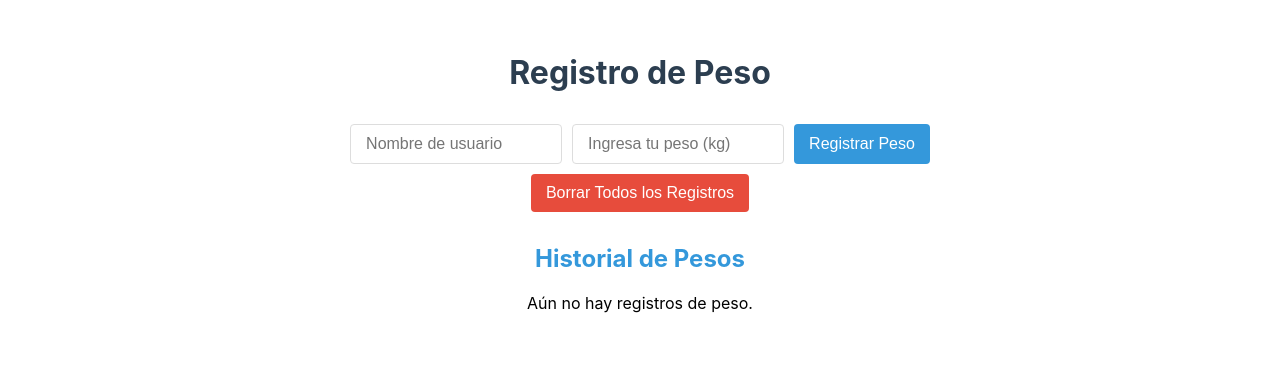
it: Pruebas E2E de la Aplicación de Seguimiento de Peso › debería borrar todos los pesos cuando se hace clic en "Borrar Todos los Registros"
This screenshot has width=1280, height=378.
Note: Registrar un peso
Type "Usuario Prueba" into the field with placeholder "Nombre de usuario" at (456, 144), box [350, 124, 562, 164]
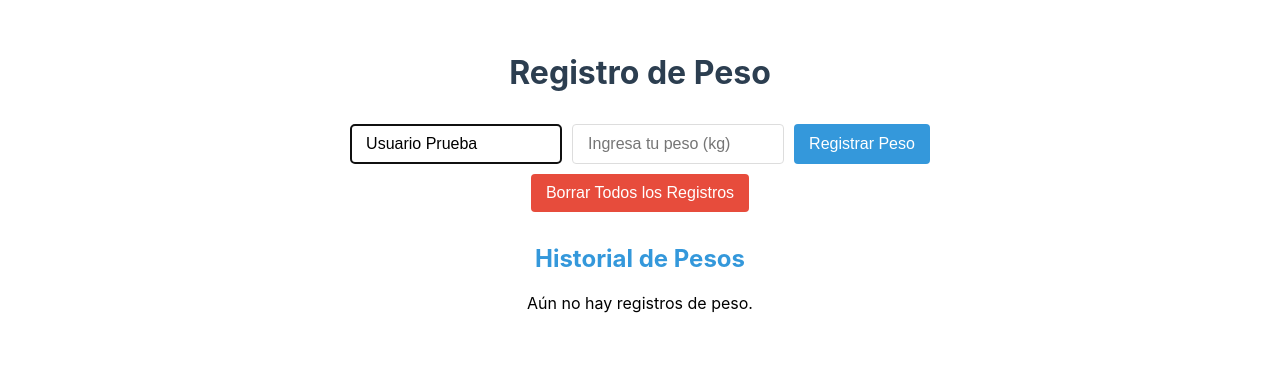
Type "65" into the number field with placeholder "Ingresa tu peso (kg)" at (678, 144), box [572, 124, 784, 164]
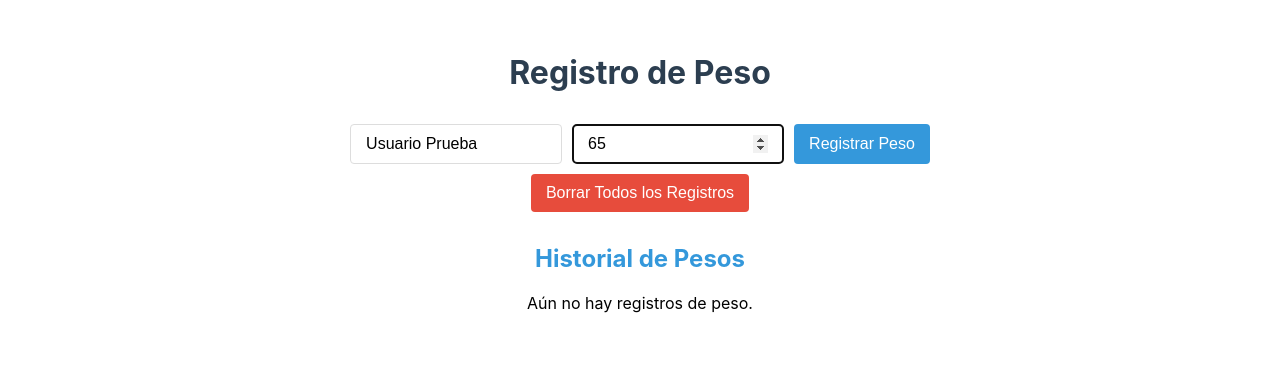
Click the button "Registrar Peso" at (862, 144), box [794, 124, 930, 164]
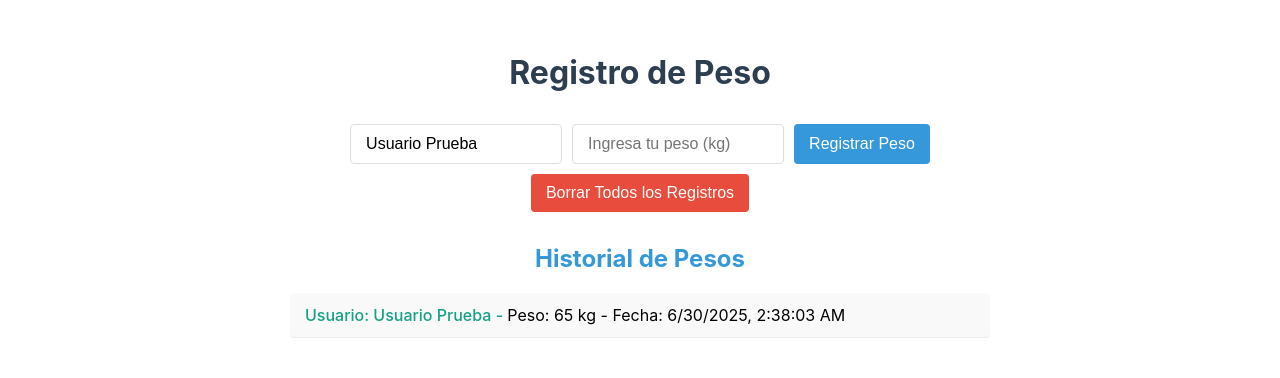
Click the button "Borrar Todos los Registros" at (640, 193), box [531, 174, 749, 212]
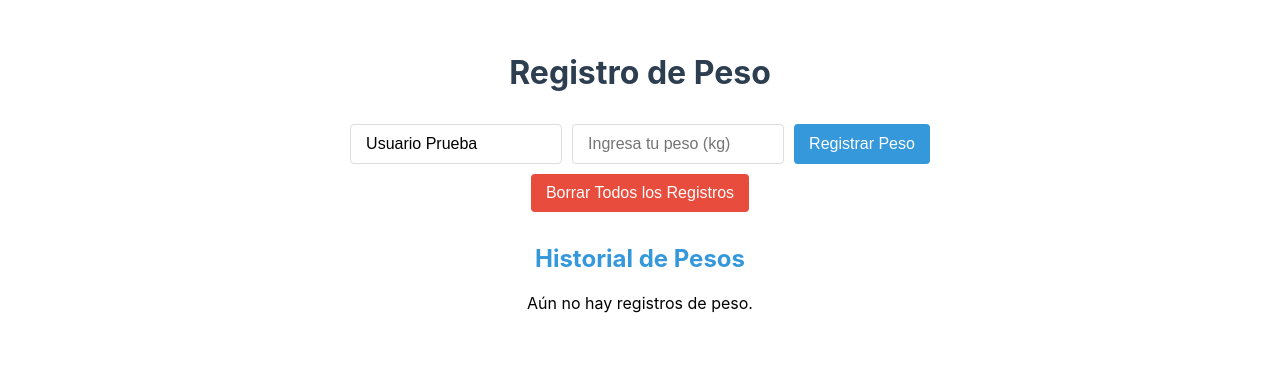
Now the text "Aún no hay registros de peso." is shown, box [527, 293, 753, 313]
Now the list item "Usuario: Usuario Prueba -Peso: 65 kg - Fecha: 6/30/2025, 2:38:03 AM" is gone
